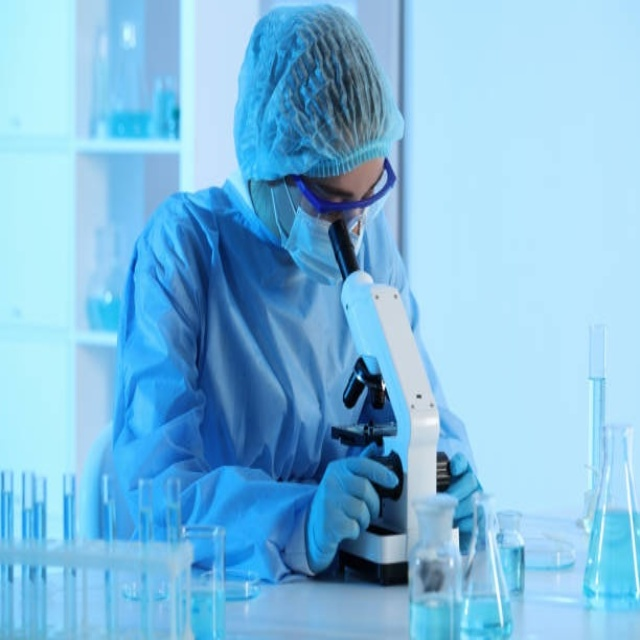Gafas: (292, 157, 397, 215)
Guantes: (305, 448, 399, 574), (443, 452, 483, 541)
Mascara: (277, 167, 377, 284)
